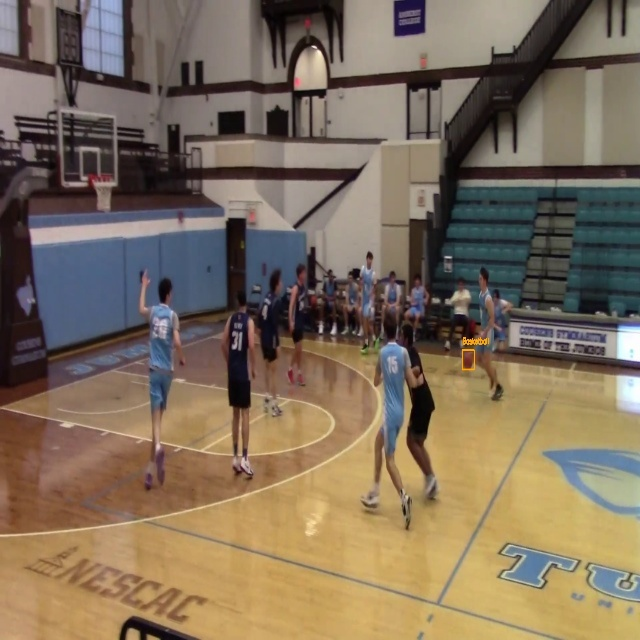Basketball: (462, 350, 474, 369)
